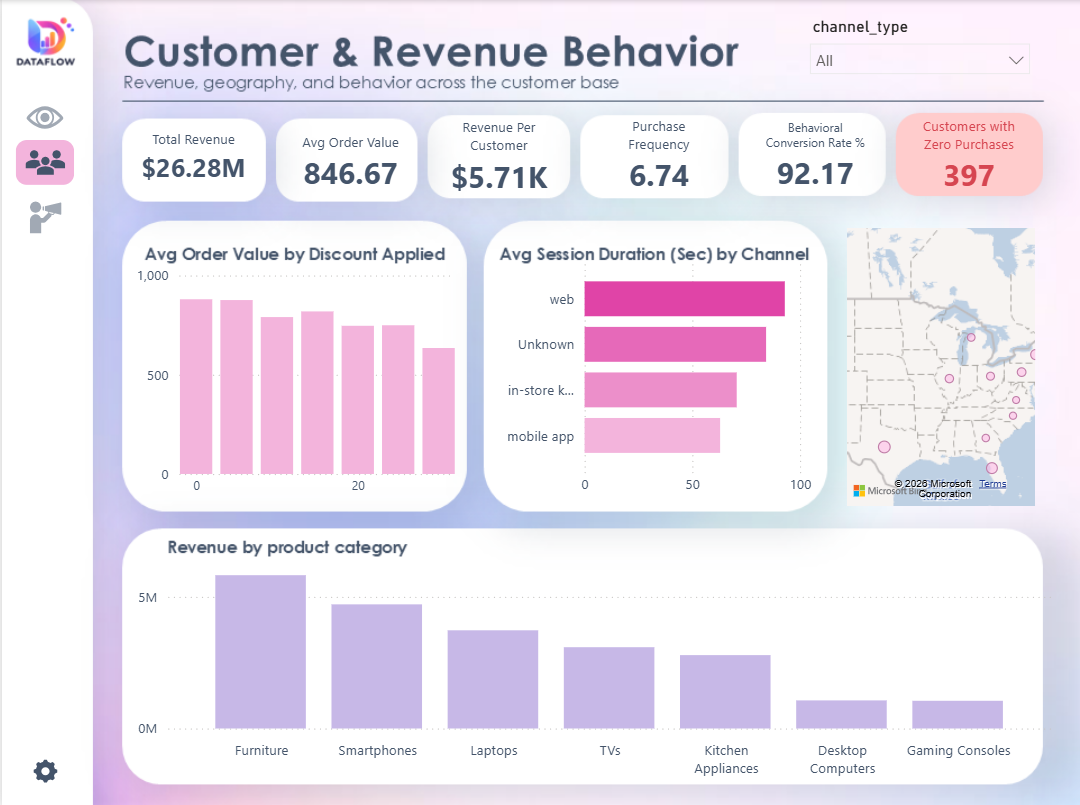

This screenshot's page, from the dashboard's own definition file:
{"tool":"powerbi","page":{"name":"Customer & Revenue Behavior","canvas":[960,720],"ordinal":1},"visuals":[{"type":"map","fields":{"Size":["_Measures.Total Revenue"],"Category":["DimCustomer.state"]},"box":[748.3,198.3,176.7,258.3],"z":0},{"type":"clusteredColumnChart","fields":{"Y":["Sum(FactTransactions.revenue)"],"Category":["FactTransactions.product_category"]},"box":[115.7,494.3,824.3,205.7],"z":1000},{"type":"barChart","fields":{"Category":["FactInteractions.channel"],"Y":["_Measures.Average Session Duration (sec)"]},"box":[432.9,221.4,292.9,228.6],"z":2000},{"type":"slicer","fields":{"Values":["FactTransactions.product_category"]},"box":[1080,312,192,312],"z":3000},{"type":"slicer","fields":{"Values":["FactTransactions.channel_type"]},"box":[708.8,10,216.7,73.3],"z":4000},{"type":"image","box":[12.2,84.3,52.2,40],"z":5000},{"type":"image","box":[12.2,124.3,52.2,40],"z":6000},{"type":"image","box":[12,173.5,52.2,40],"z":7000},{"type":"image","box":[16.7,672.2,44.4,28.9],"z":8000},{"type":"cardVisual","fields":{"Data":["_Measures.Average Order Value"]},"box":[241.7,110,138.3,68.3],"z":9000},{"type":"cardVisual","fields":{"Data":["_Measures.Revenue Per Customer"]},"box":[380,98.6,126.9,80.1],"z":10000},{"type":"cardVisual","fields":{"Data":["_Measures.Purchase Frequency"]},"box":[521.7,98.3,126.9,80.1],"z":11000},{"type":"cardVisual","fields":{"Data":["_Measures.Behavioral Conversion Rate %"]},"box":[661.7,98.3,126.9,80.1],"z":12000},{"type":"cardVisual","fields":{"Data":["_Measures.Customers with Zero Purchases"]},"box":[798.3,98.3,126.9,80.1],"z":13000},{"type":"clusteredColumnChart","fields":{"Y":["_Measures.Average Order Value"],"Category":["FactTransactions.discount_applied"]},"box":[115,231.2,293.8,218.8],"z":14000},{"type":"cardVisual","fields":{"Data":["_Measures.Total Revenue"]},"box":[100,98.6,141.4,80],"z":15000}]}

Visuals, with their boxes on the page's 960x720 design canvas (x1, y1, x2, y2). These are canvas units, not pixel positions in the 1080x805 screenshot, which may show the page scaled, cropped or inside an application window:
map - _Measures.Total Revenue x DimCustomer.state: [x1=748, y1=198, x2=925, y2=457]
clusteredColumnChart - Sum(FactTransactions.revenue) x FactTransactions.product_category: [x1=116, y1=494, x2=940, y2=700]
barChart - FactInteractions.channel x _Measures.Average Session Duration (sec): [x1=433, y1=221, x2=726, y2=450]
slicer - FactTransactions.product_category: [x1=1080, y1=312, x2=1272, y2=624]
slicer - FactTransactions.channel_type: [x1=709, y1=10, x2=926, y2=83]
image: [x1=12, y1=84, x2=64, y2=124]
image: [x1=12, y1=124, x2=64, y2=164]
image: [x1=12, y1=174, x2=64, y2=214]
image: [x1=17, y1=672, x2=61, y2=701]
cardVisual - _Measures.Average Order Value: [x1=242, y1=110, x2=380, y2=178]
cardVisual - _Measures.Revenue Per Customer: [x1=380, y1=99, x2=507, y2=179]
cardVisual - _Measures.Purchase Frequency: [x1=522, y1=98, x2=649, y2=178]
cardVisual - _Measures.Behavioral Conversion Rate %: [x1=662, y1=98, x2=789, y2=178]
cardVisual - _Measures.Customers with Zero Purchases: [x1=798, y1=98, x2=925, y2=178]
clusteredColumnChart - _Measures.Average Order Value x FactTransactions.discount_applied: [x1=115, y1=231, x2=409, y2=450]
cardVisual - _Measures.Total Revenue: [x1=100, y1=99, x2=241, y2=179]
